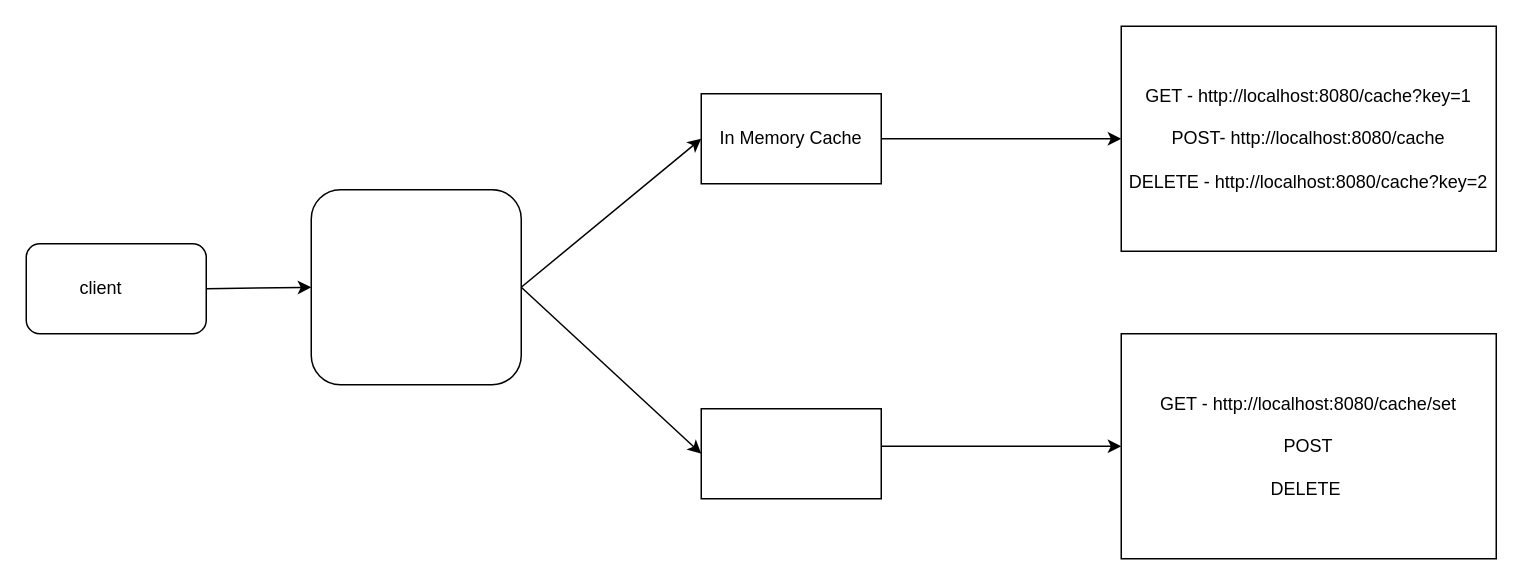
Some shapes in this 1523 by 585 pixel diagram are drawn without their labels. Each missing label, with the centre of its shape:
"HTTP server 8080" goes at point (415, 286).
"Redis Server" goes at point (790, 453).
